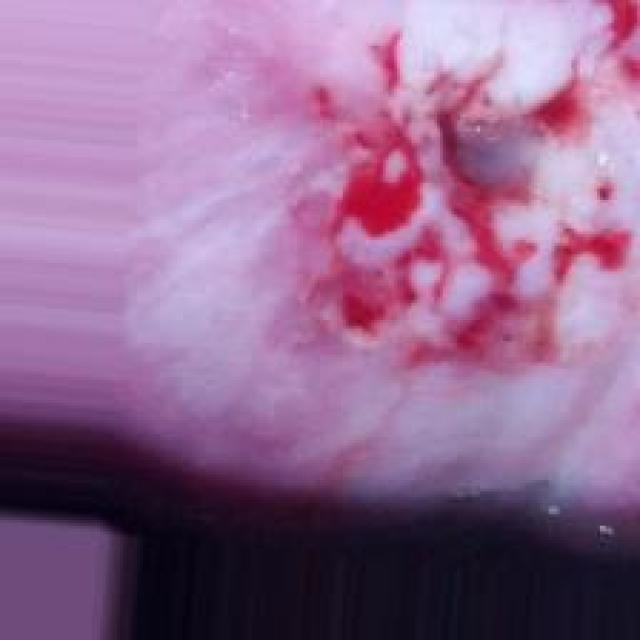type-1: (131, 0, 640, 569)
